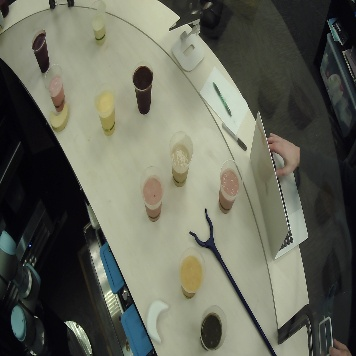full_cup: (139, 164, 167, 224), (167, 131, 194, 187), (177, 247, 205, 300), (198, 303, 228, 351), (216, 159, 242, 213), (130, 62, 154, 115), (93, 83, 117, 135), (43, 61, 67, 112), (87, 1, 107, 45), (31, 29, 50, 72)
puck: (146, 300, 170, 343), (47, 102, 70, 132)
